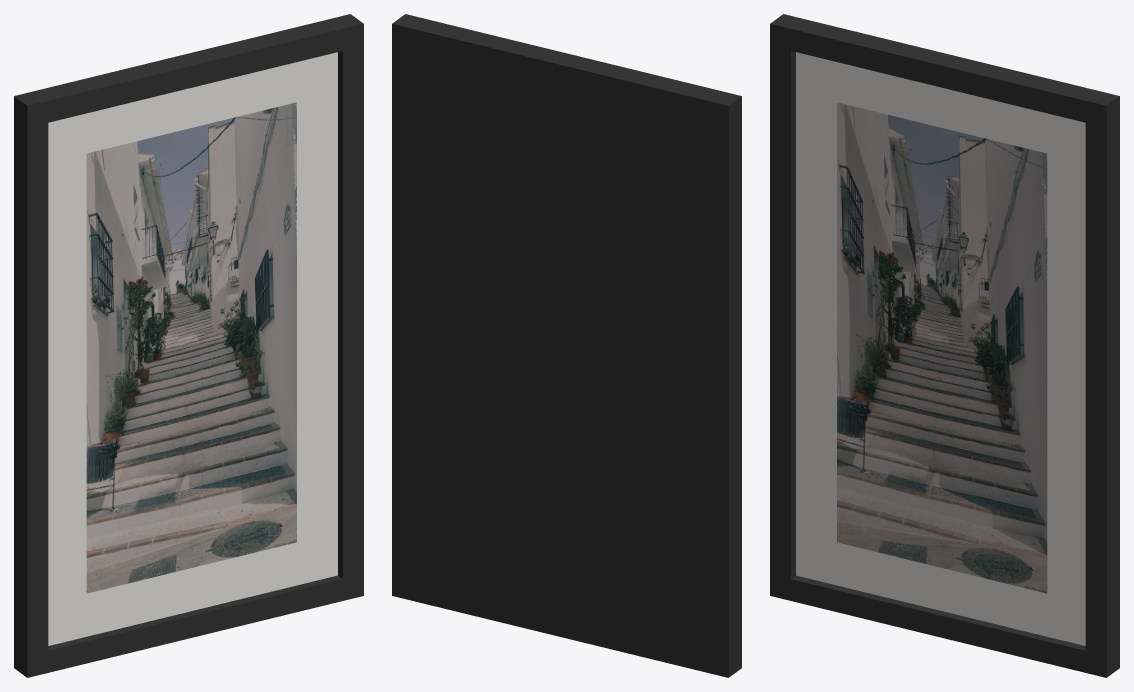
Rendered from uppfor-40.gltf.
3 renders of one model, left to right at view 1: azimuth 30°, elevation 25°; view 2: azimuth 150°, elevation 25°; view 3: azimuth 330°, elevation 25°, orthographic.
Parts seen in each view (by area): view 1: tavla; view 2: tavla; view 3: tavla.
Boxes of the visible parts, left/top/right/bottom form: tavla: left=14, top=14, right=363, bottom=677; tavla: left=392, top=14, right=741, bottom=677; tavla: left=770, top=14, right=1119, bottom=677.
Bounding box in the file's own units: 0.32 × 0.52 × 0.022.
Materials: 3 (1 with a texture image).
